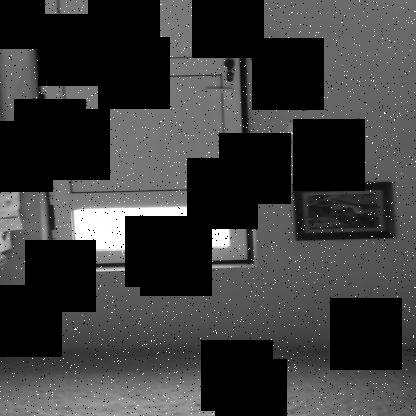Porte: (27, 1, 261, 273)
